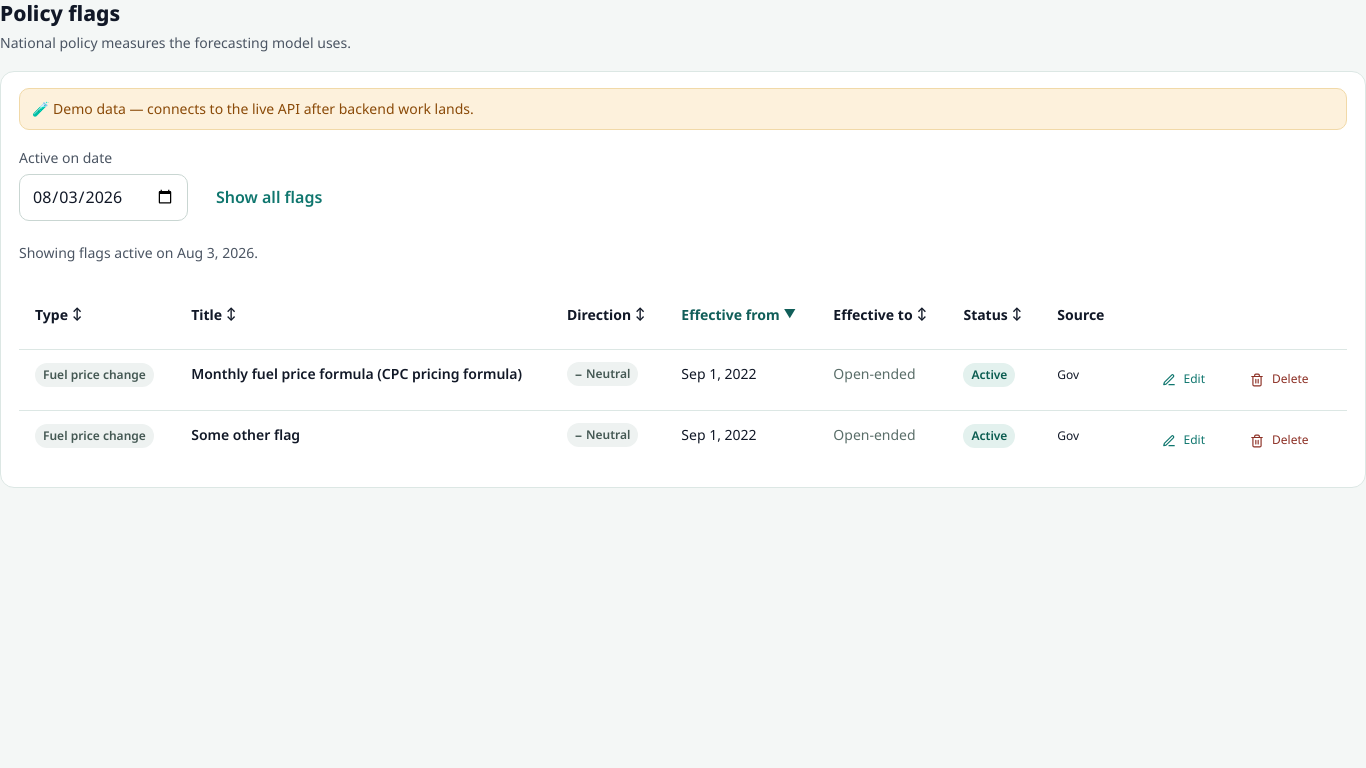
Admin console pages › PolicyFlagsPage (ADM-2) › deletes a flag through the confirm dialog and refetches the register
The width and height of the screenshot is (1366, 768).
Click the 1st button "Delete": (1279, 380) [1235, 362, 1323, 398]
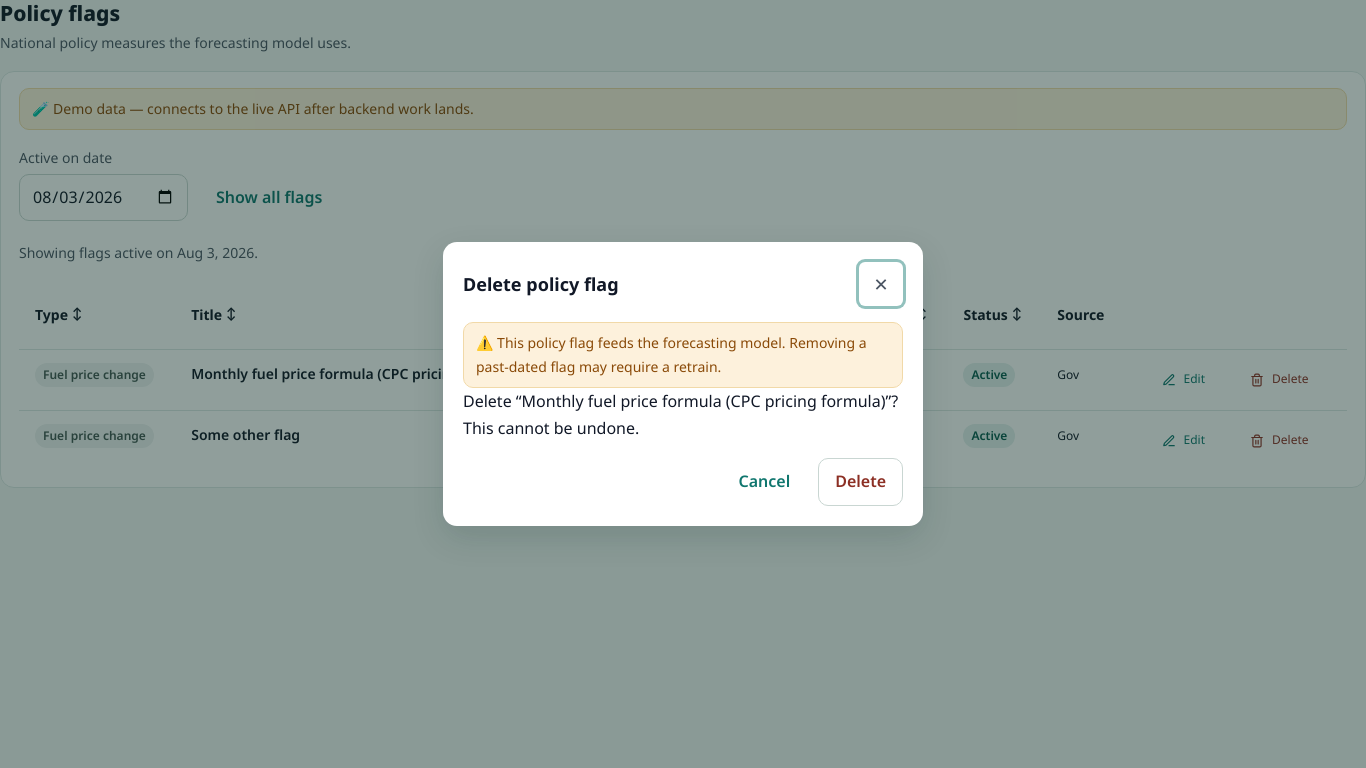
Click the button with class "adm-btn--danger": (861, 482) [818, 458, 903, 506]
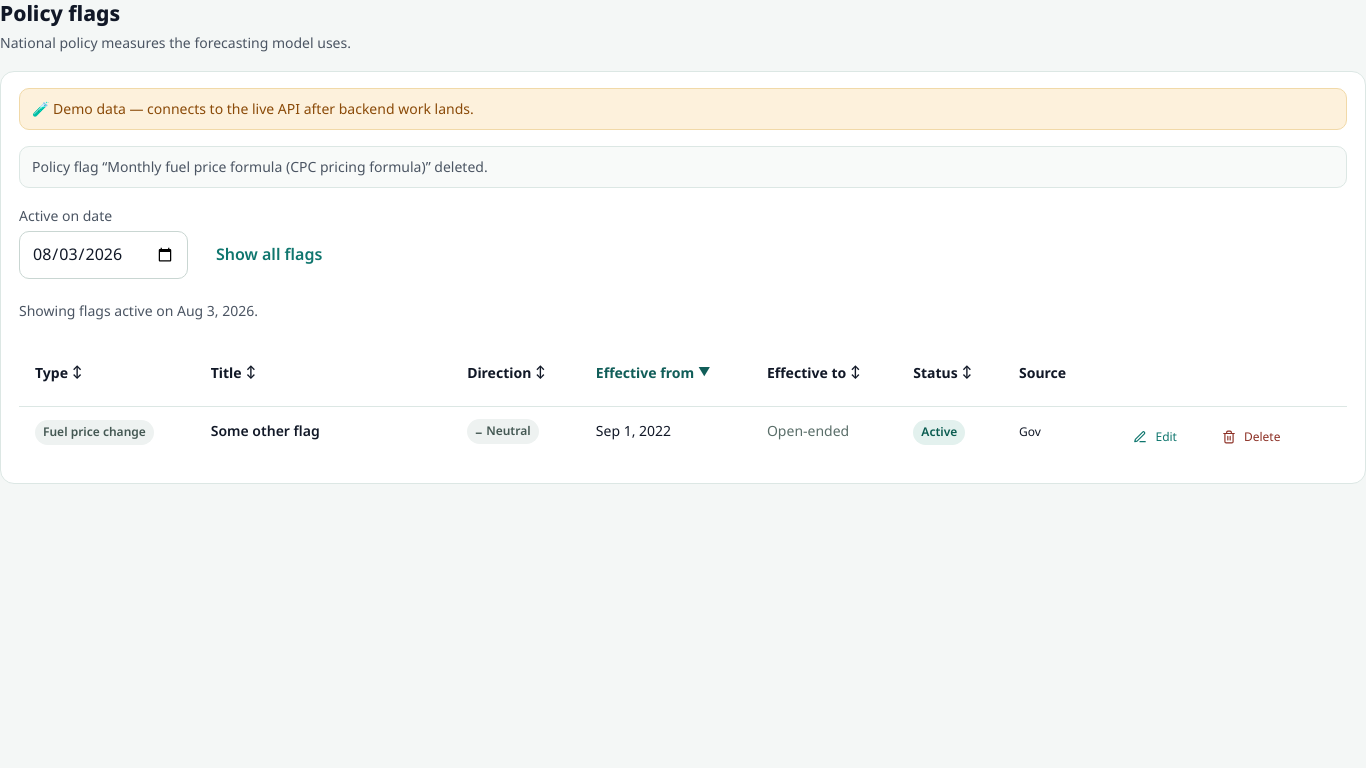
Expected: the text "Some other flag" is shown, [211, 422, 320, 440]
Expected: the text "Policy flag “Monthly fuel price formula (CPC pricing formula)” deleted." is shown, [19, 146, 1347, 188]
